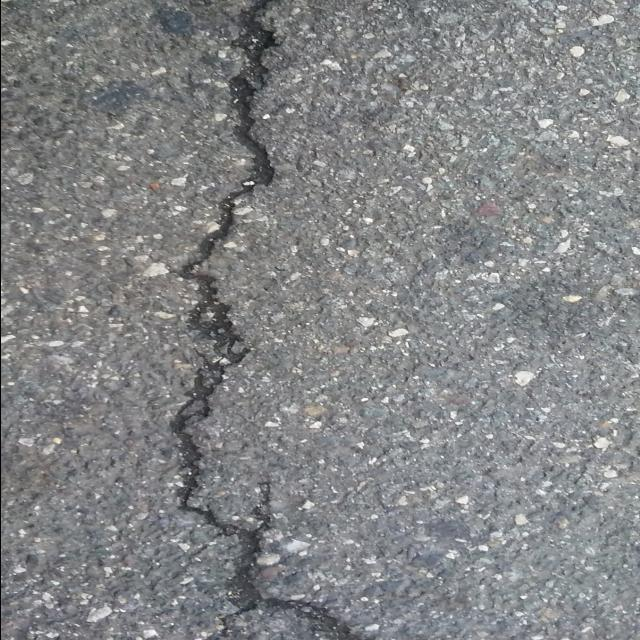Crack: (165, 0, 366, 640)
